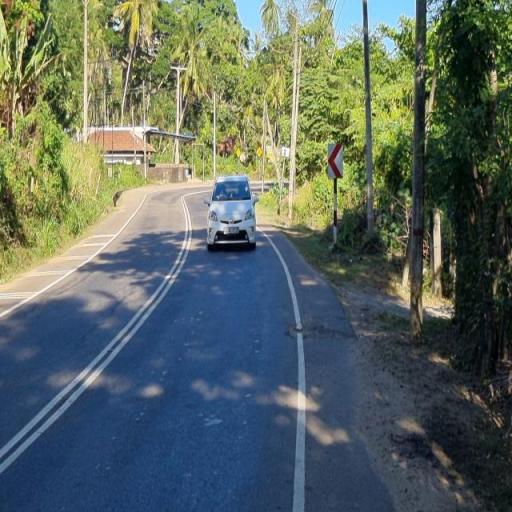double_white_line: (1, 190, 198, 473)
